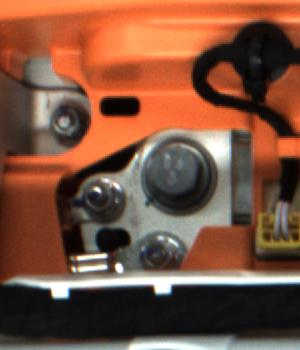nut_b: (136, 134, 221, 222)
screw_s: (45, 99, 96, 142), (131, 229, 183, 265), (81, 179, 118, 213)
